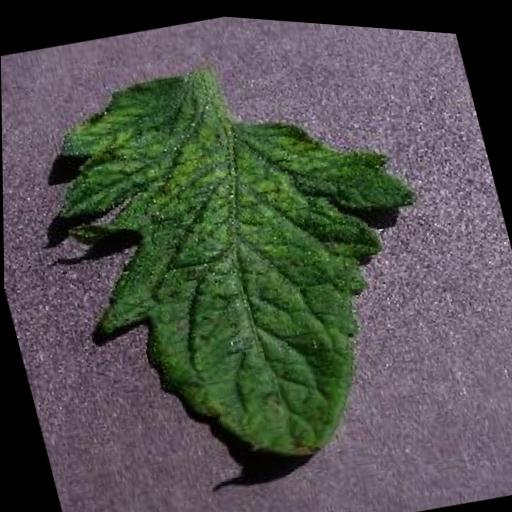Mosaic Virus: (27, 10, 481, 510)
